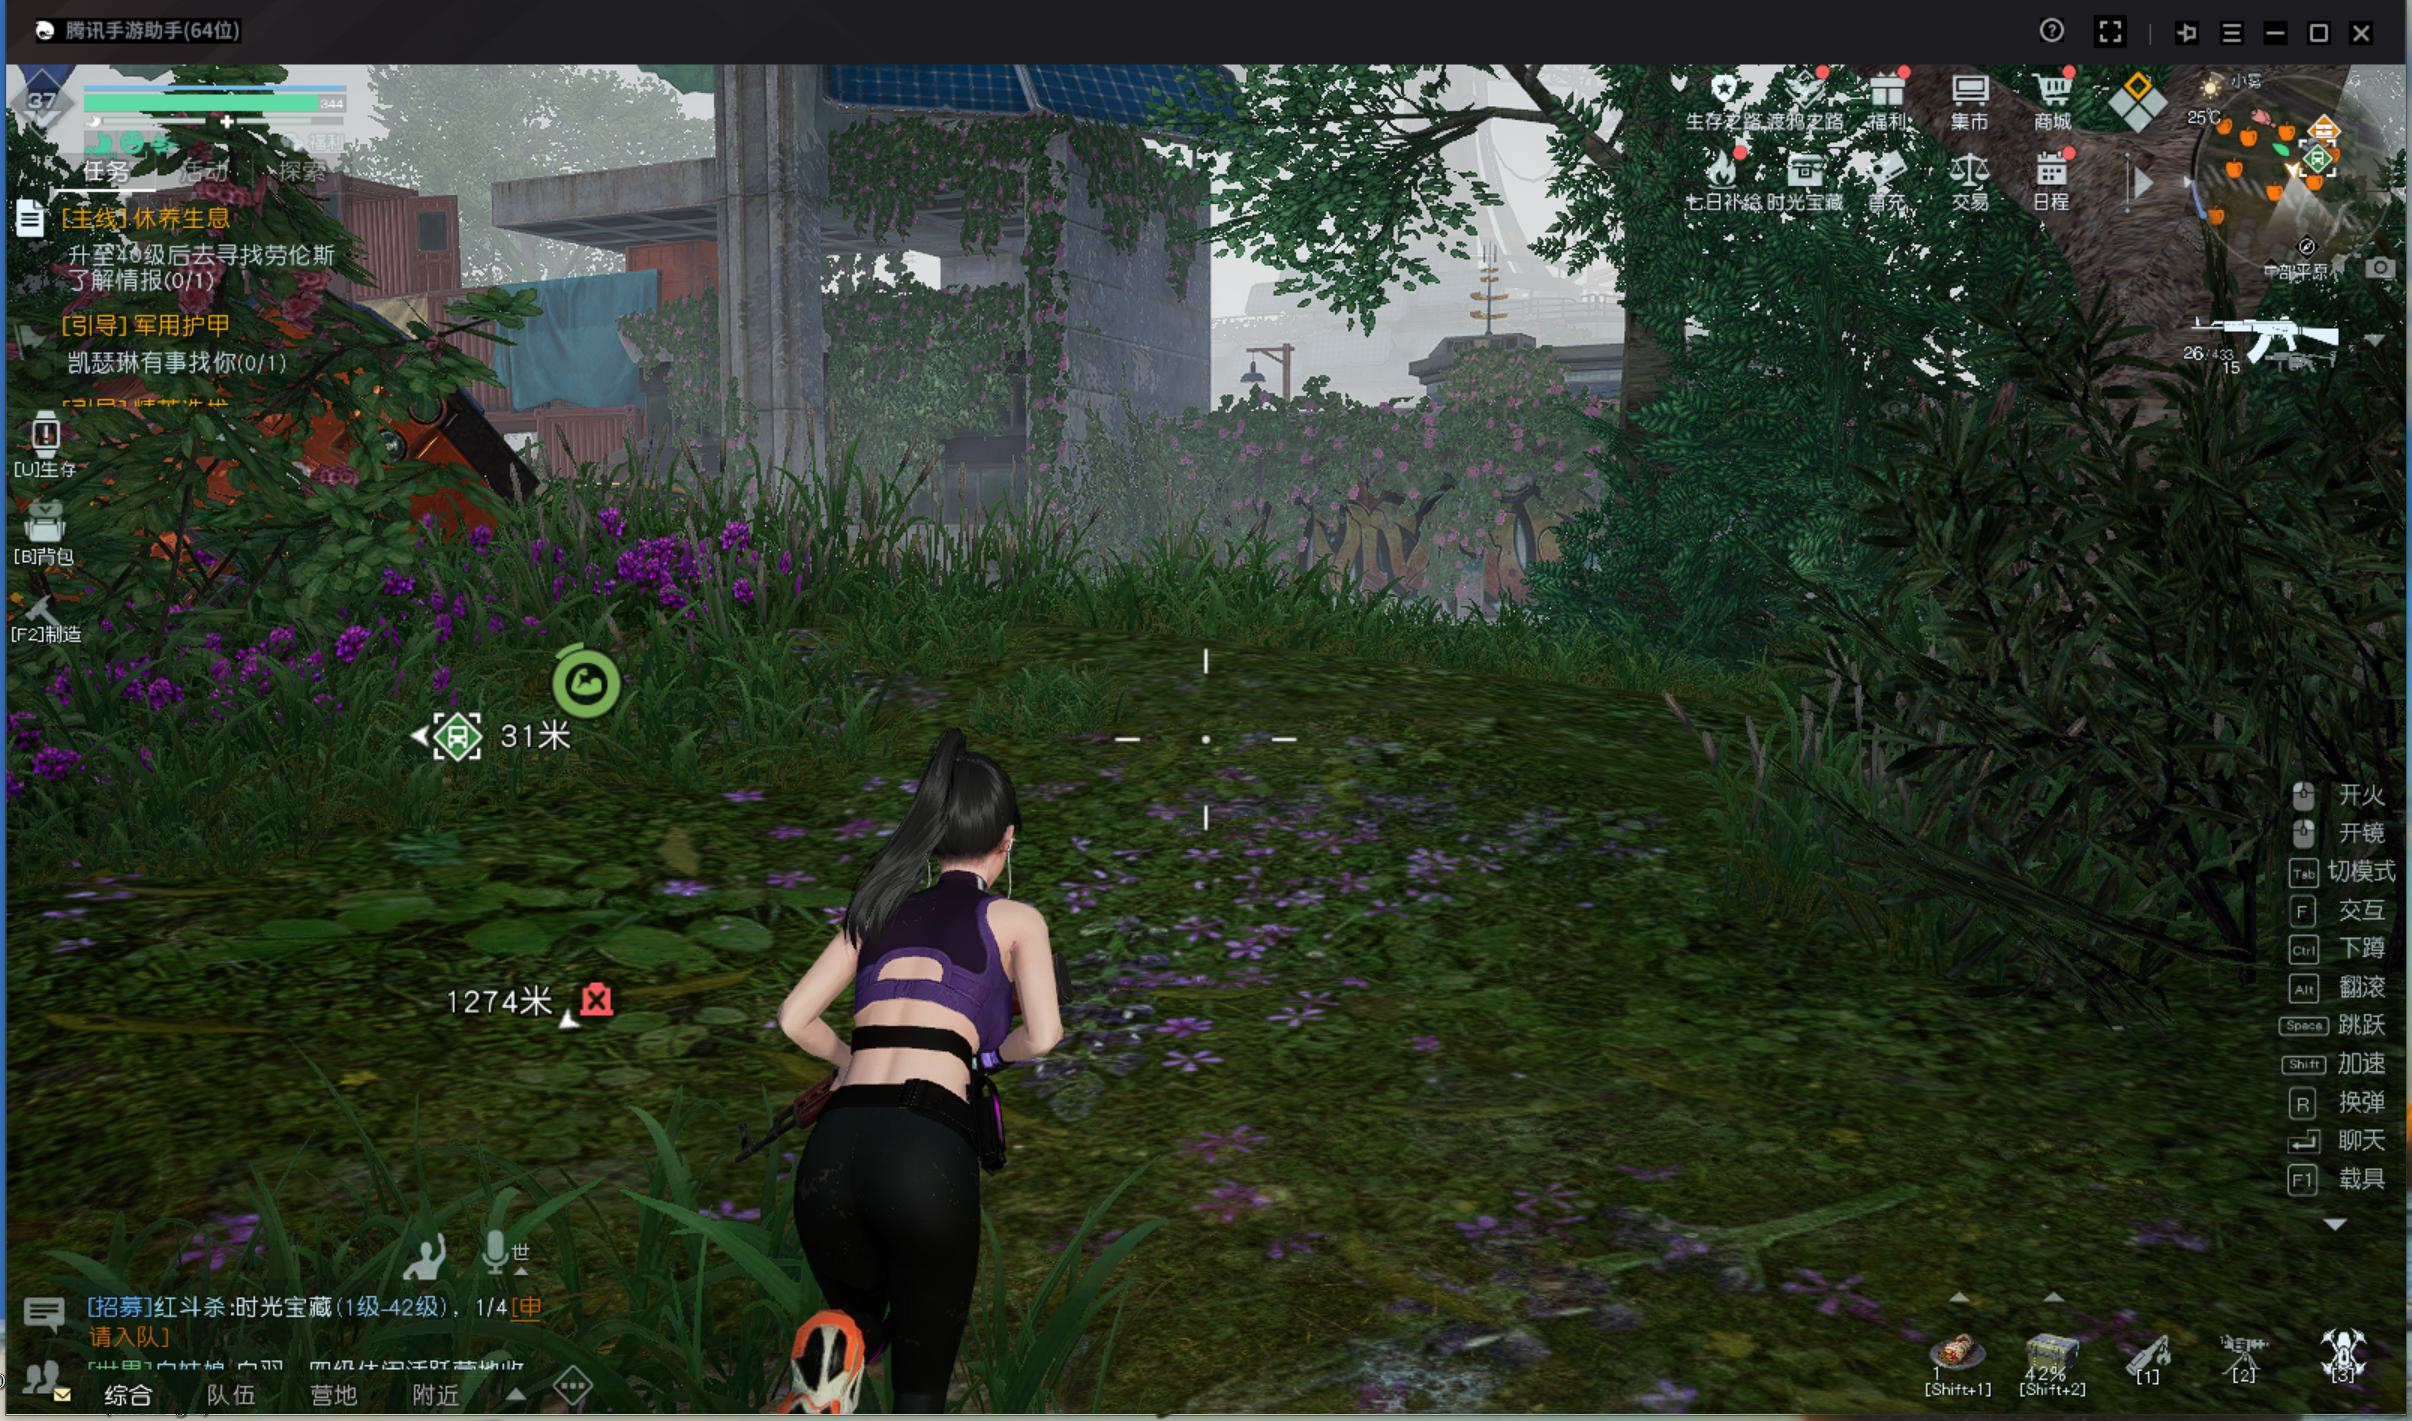tree: (1598, 191, 1720, 621)
